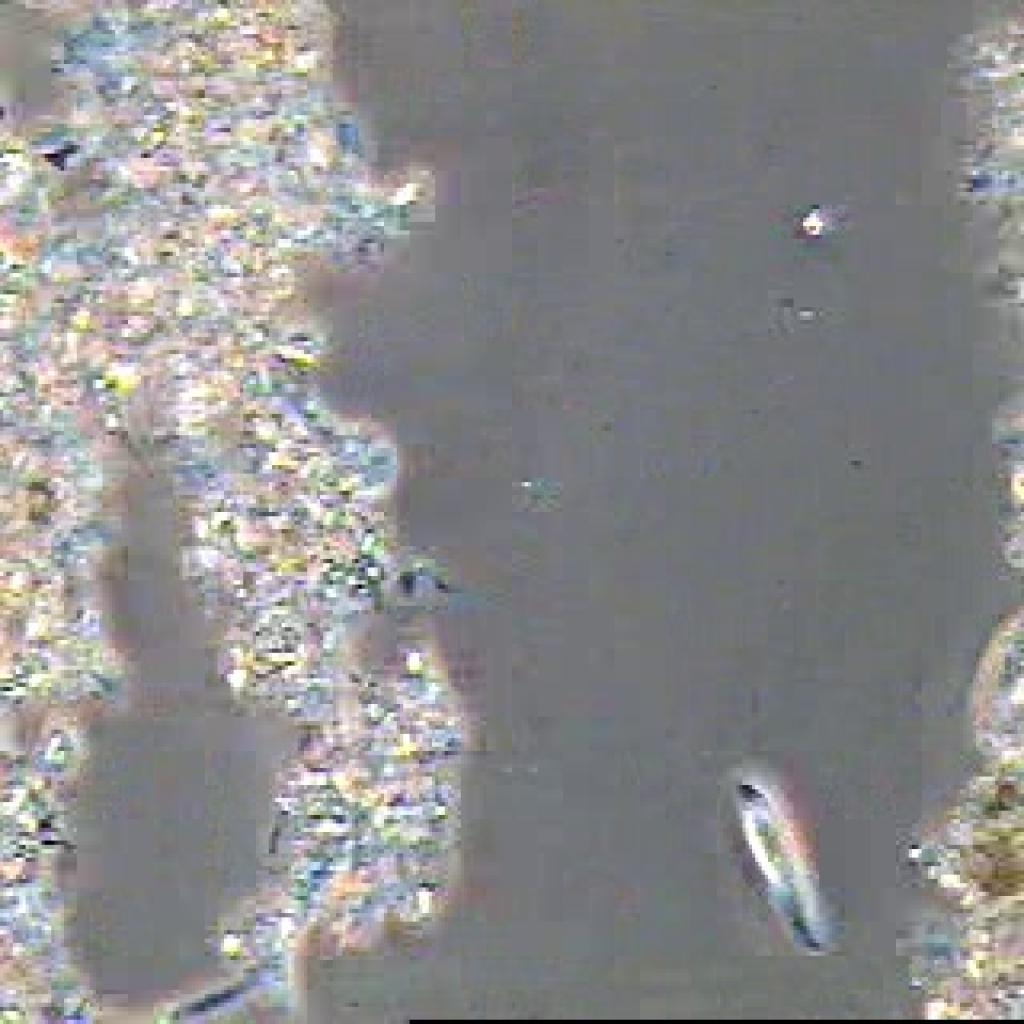Pristina: (710, 757, 854, 962)
